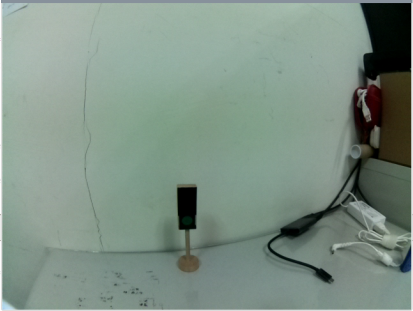Green: (174, 183, 199, 236)
